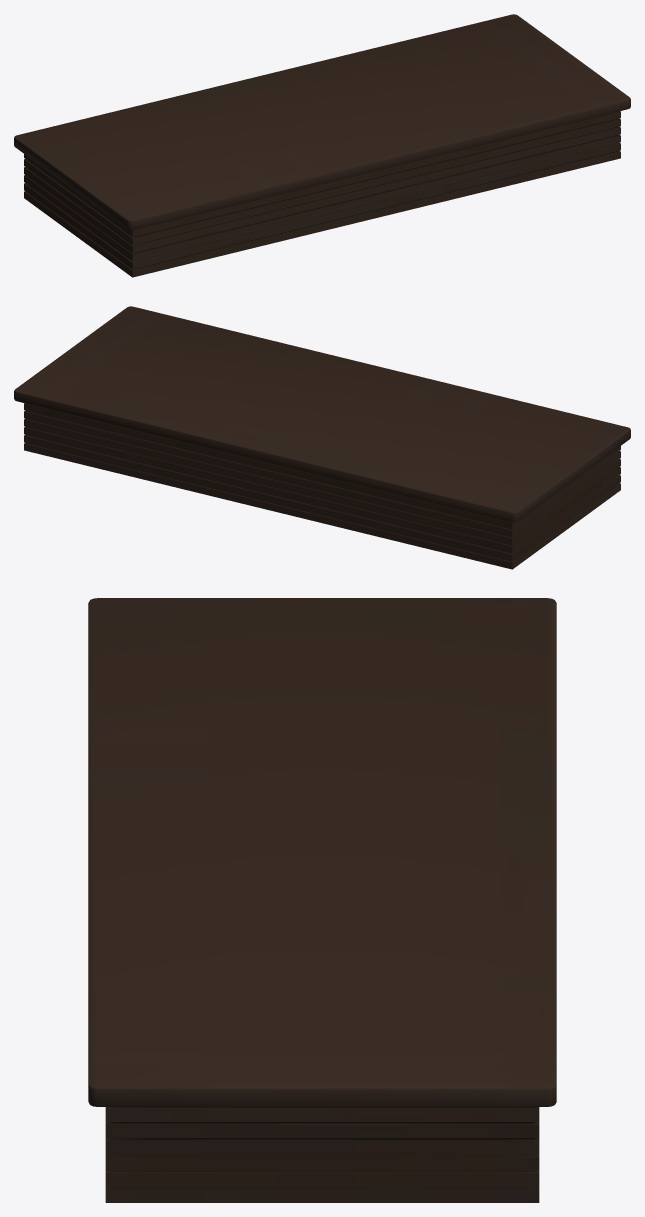
Rendered from coffee_table.glb.
The picture shows the model from 3 angles, top to bottom: view 1: azimuth 30°, elevation 25°; view 2: azimuth 150°, elevation 25°; view 3: azimuth 270°, elevation 25°; orthographic projection. The views are drawn at different scales.
Parts seen in each view (by area): view 1: coffee_table; view 2: coffee_table; view 3: coffee_table.
Boxes of the visible parts, left/top/right/bottom form: coffee_table: left=14, top=14, right=630, bottom=277; coffee_table: left=14, top=306, right=630, bottom=569; coffee_table: left=88, top=598, right=556, bottom=1202.
Size of the model in its own units: 2.68 by 0.3098 by 1.08.
1 material, 1 textured.
